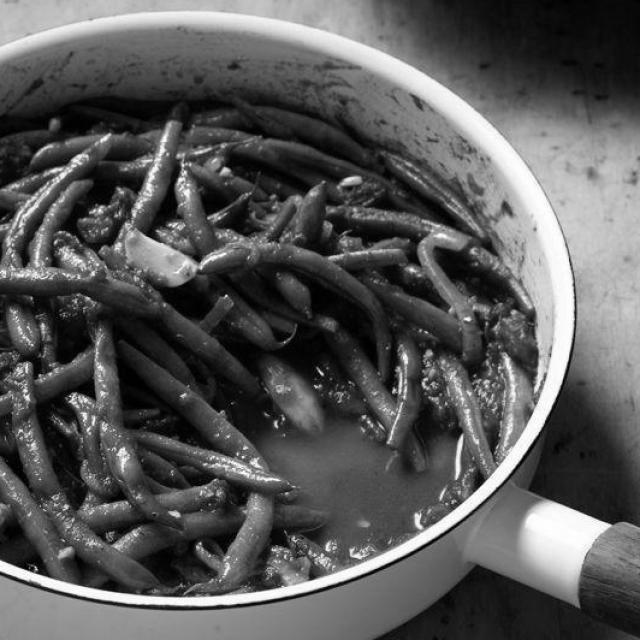Beans: (0, 79, 551, 594)
